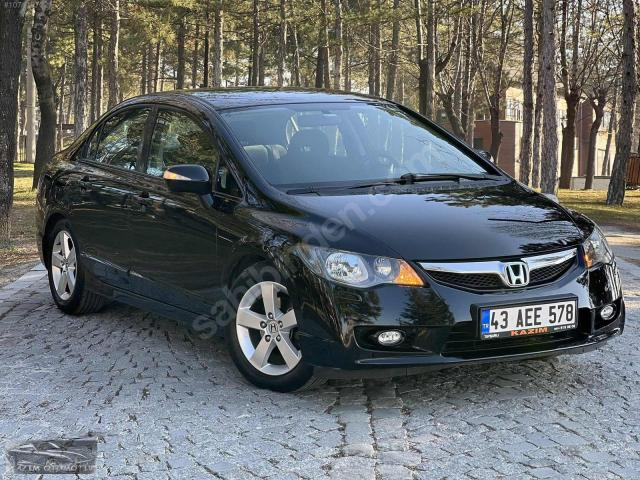plaka: (480, 299, 577, 338)
